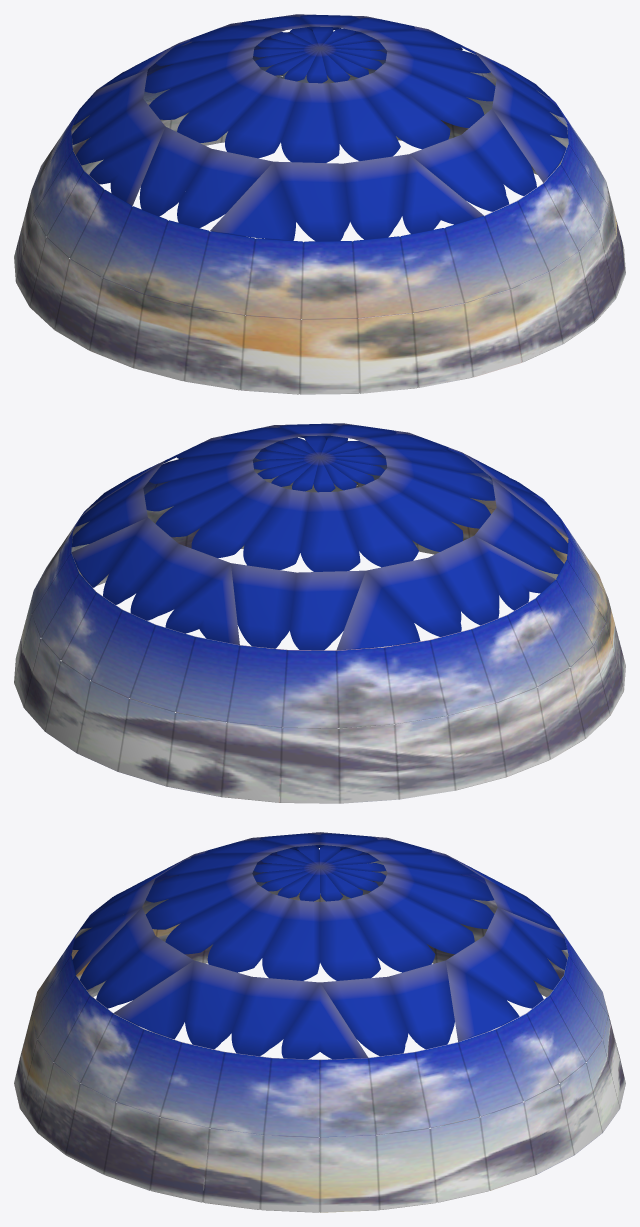
3 renders of one model, top to bottom at view 1: azimuth 30°, elevation 25°; view 2: azimuth 150°, elevation 25°; view 3: azimuth 270°, elevation 25°, orthographic.
Parts seen in each view (by area): view 1: T1L9M001_28; view 2: T1L9M001_28; view 3: T1L9M001_28.
Boxes of the visible parts, x1,y1,x2,y2 form: T1L9M001_28: (14, 14, 625, 394); T1L9M001_28: (14, 423, 625, 803); T1L9M001_28: (14, 832, 625, 1212).
Bounding box in the file's own units: 4.09 × 1.6 × 4.09.
